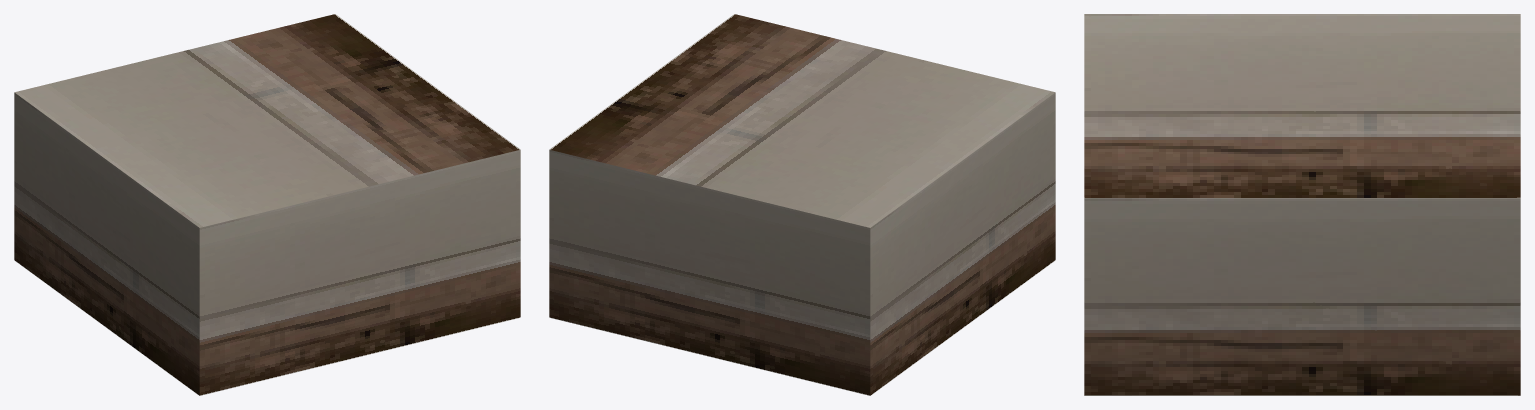
File: hotel_lobby.gltf
3 views of the same model, side by side, from view 1: azimuth 30°, elevation 25°; view 2: azimuth 150°, elevation 25°; view 3: azimuth 270°, elevation 25° (orthographic). The views are drawn at different scales.
Parts seen in each view (by area): view 1: walls; view 2: walls; view 3: walls.
Boxes of the visible parts, <box> form: walls: <box>14,14,520,395</box>; walls: <box>549,14,1055,395</box>; walls: <box>1084,14,1520,395</box>.
Bounding box in the file's own units: 6 × 3 × 6.
2 materials, 2 textured.
